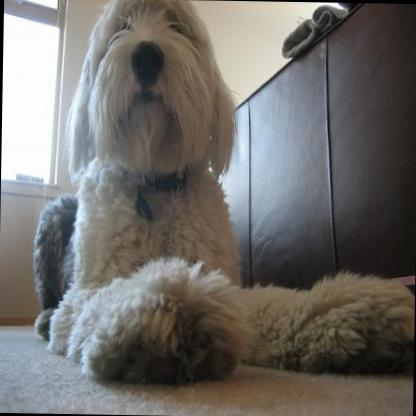Old_English_sheepdog: (29, 0, 416, 378)
